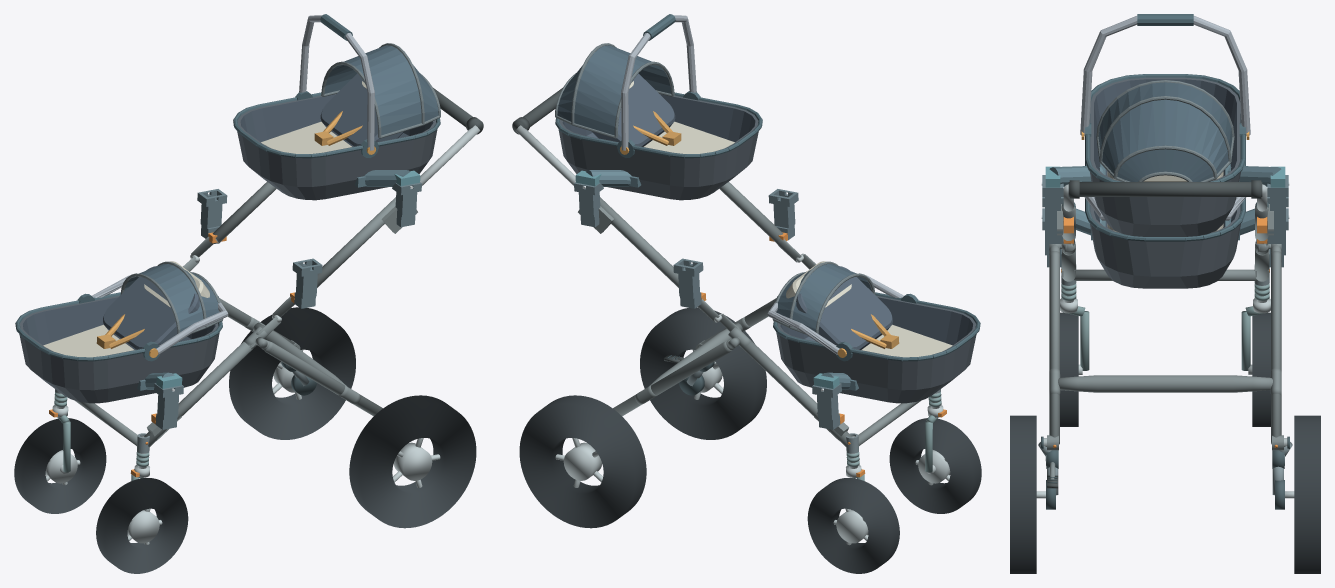
Rendered from D04_w550_state1_wheel_L.glb.
3 views of the same model, side by side, from view 1: azimuth 30°, elevation 25°; view 2: azimuth 150°, elevation 25°; view 3: azimuth 270°, elevation 25° (orthographic). The views are drawn at different scales.
Parts seen in each view (by area): view 1: D04_Upper, D04_Lower, RL_tire.002, RR_tire.002, FL_tire.002, FR_tire.002, V46_rear_leg_-1.003, main_lower_-1.003, main_upper_-1.003, Universal_Cabin_Receiver_M_-1, RL_sealed_hub.002, Universal_Cabin_Receiver_M_1 (+10 smaller); view 2: D04_Upper, D04_Lower, RR_tire.002, RL_tire.002, FR_tire.002, FL_tire.002, V46_rear_leg_1.003, main_lower_1.003, main_upper_1.003, Universal_Cabin_Receiver_M_1, RR_sealed_hub.002, Universal_Cabin_Receiver_M_-1 (+10 smaller); view 3: D04_Upper, D04_Lower, RL_tire.002, RR_tire.002, V46_rearbar.003, round_handle.002, FL_tire.002, FR_tire.002, V46_rear_leg_1.003, V46_rear_leg_-1.003, D04_Upper_Mount_H, Universal_Cabin_Receiver_H_1 (+7 smaller).
Boxes of the visible parts, box(x1,y1,x2,y2) form: D04_Upper: box(233, 14, 440, 200); D04_Lower: box(15, 261, 228, 403); RL_tire.002: box(349, 395, 476, 528); RR_tire.002: box(229, 307, 355, 439); FL_tire.002: box(96, 478, 188, 573); FR_tire.002: box(14, 418, 106, 513); V46_rear_leg_-1.003: box(264, 341, 382, 416); main_lower_-1.003: box(144, 341, 255, 447); main_upper_-1.003: box(317, 197, 395, 287); Universal_Cabin_Receiver_M_-1: box(292, 258, 322, 308); RL_sealed_hub.002: box(393, 442, 432, 480); Universal_Cabin_Receiver_M_1: box(197, 189, 227, 238); D04_Upper: box(555, 14, 762, 200); D04_Lower: box(767, 261, 980, 403); RR_tire.002: box(519, 395, 646, 528); RL_tire.002: box(640, 307, 766, 439); FR_tire.002: box(807, 478, 899, 573); FL_tire.002: box(889, 418, 981, 513); V46_rear_leg_1.003: box(613, 341, 731, 416); main_lower_1.003: box(740, 341, 851, 447); main_upper_1.003: box(600, 197, 678, 287); Universal_Cabin_Receiver_M_1: box(673, 258, 703, 308); RR_sealed_hub.002: box(563, 442, 602, 480); Universal_Cabin_Receiver_M_-1: box(768, 189, 798, 240); D04_Upper: box(1080, 14, 1250, 236); D04_Lower: box(1084, 161, 1246, 288); RL_tire.002: box(1010, 415, 1036, 573); RR_tire.002: box(1294, 415, 1320, 573); V46_rearbar.003: box(1058, 375, 1272, 392); round_handle.002: box(1068, 182, 1262, 196); FL_tire.002: box(1060, 312, 1078, 426); FR_tire.002: box(1252, 312, 1270, 426); V46_rear_leg_1.003: box(1271, 251, 1281, 444); V46_rear_leg_-1.003: box(1049, 251, 1059, 444); D04_Upper_Mount_H: box(1041, 164, 1289, 187); Universal_Cabin_Receiver_H_1: box(1267, 175, 1288, 233).
Size of the model in its own units: 1.28 by 1.36 by 0.7071.
